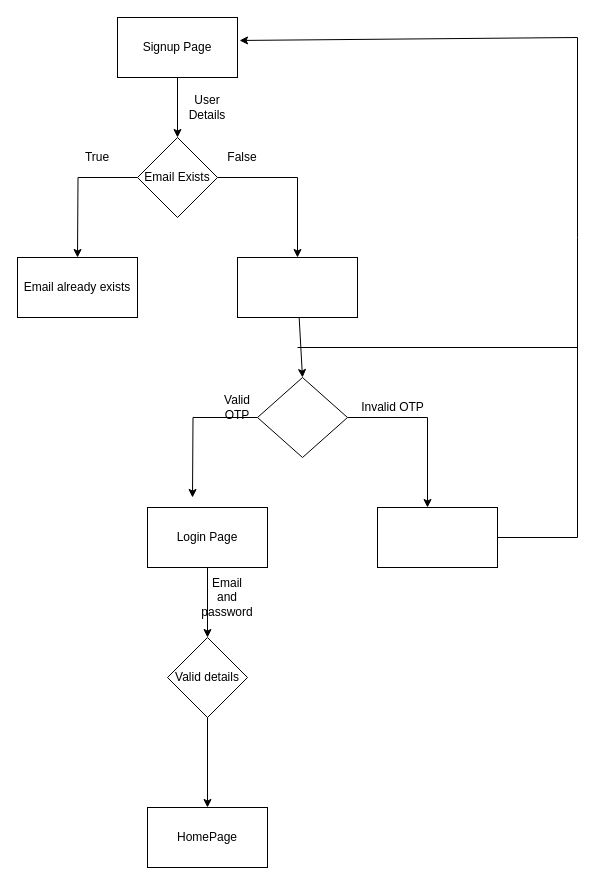
Image size: 603x885. Some labels were removed from this diagram. The shapes that lost their labels are listed below. From the top down, each one's centre as x and y in pixels, then its label:
At (x=297, y=287): "OTP is sent to email".
At (x=302, y=417): "User Enters OTP".
At (x=437, y=537): "Email Verification Fails".
